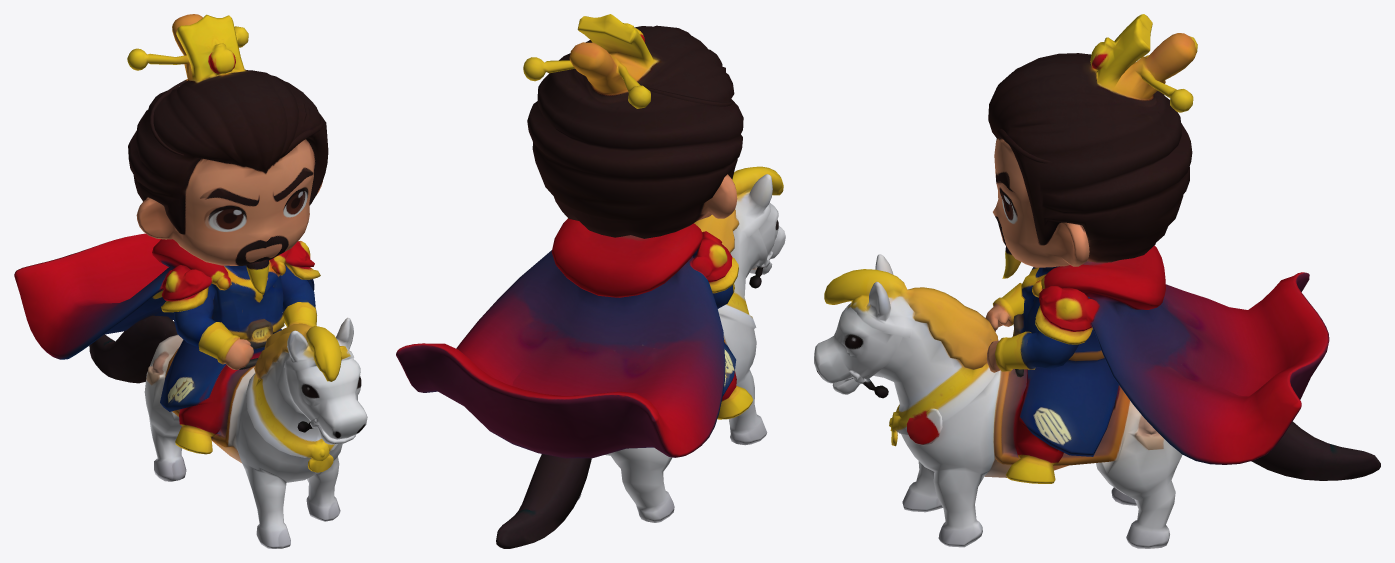
The model's file is hero_caocao.glb.
3 renders of one model, left to right at view 1: azimuth 30°, elevation 25°; view 2: azimuth 150°, elevation 25°; view 3: azimuth 270°, elevation 25°, orthographic. The views are drawn at different scales.
Parts seen in each view (by area): view 1: tripo_9322d6cf_2de0_42a6_91c9_12fe24e58cec; view 2: tripo_9322d6cf_2de0_42a6_91c9_12fe24e58cec; view 3: tripo_9322d6cf_2de0_42a6_91c9_12fe24e58cec.
Boxes of the visible parts, <box> form: tripo_9322d6cf_2de0_42a6_91c9_12fe24e58cec: <box>14,14,367,548</box>; tripo_9322d6cf_2de0_42a6_91c9_12fe24e58cec: <box>396,14,785,548</box>; tripo_9322d6cf_2de0_42a6_91c9_12fe24e58cec: <box>814,14,1380,548</box>.
Bounding box in the file's own units: 0.5552 × 0.979 × 0.9995.
1 material, 1 textured.
